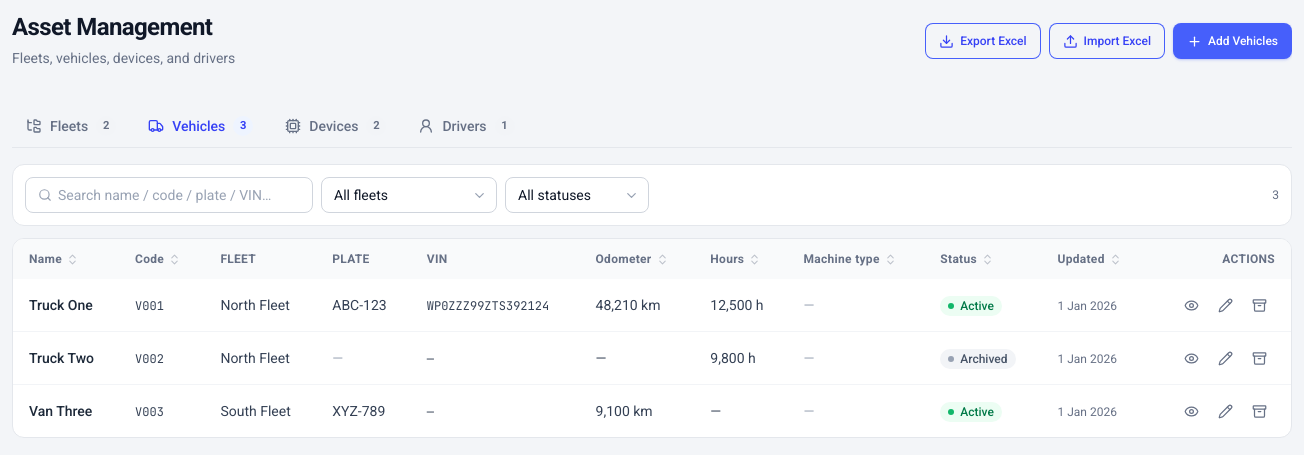
it: AssetManagementPage › filters vehicles by lifecycle status
This screenshot has width=1304, height=455.
Check: the text "Truck One" is shown, box [29, 297, 93, 313]
Select "Archived" in the dropdown named "Status" at [577, 195], box [505, 177, 649, 213]
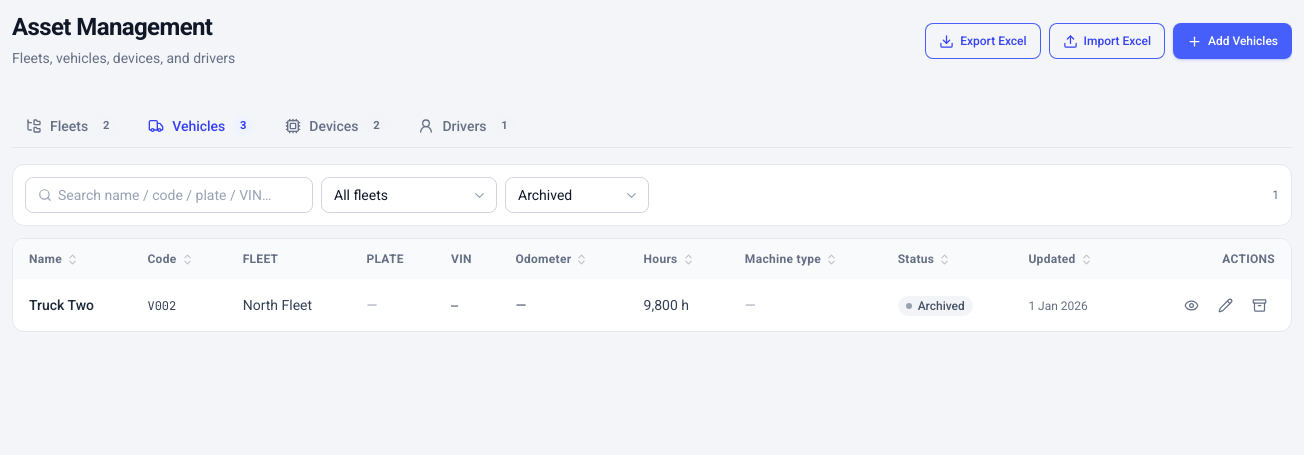
Check: the text "Truck Two" is shown, box [29, 297, 94, 313]
Check: the text "Truck One" is gone
